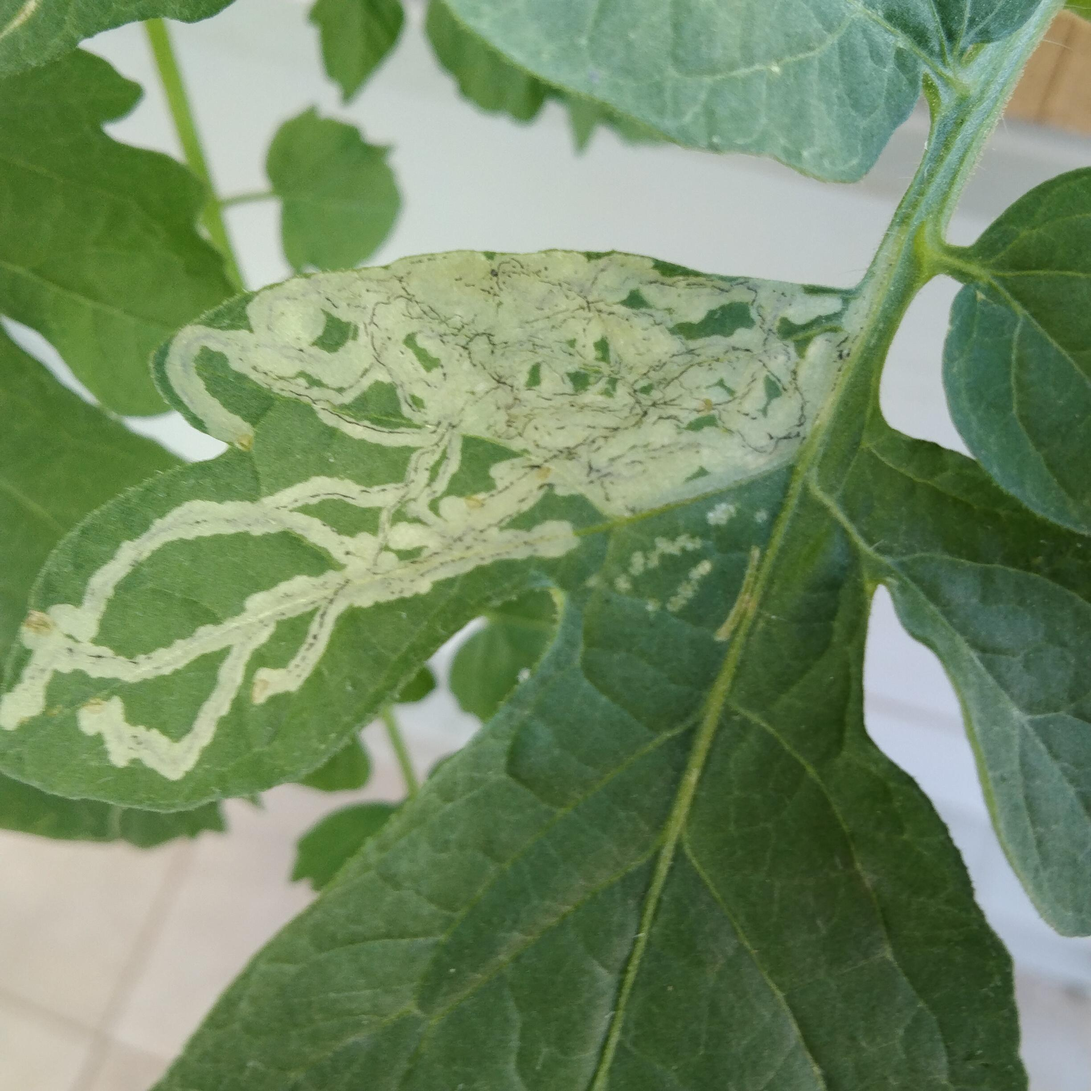Leaf_Miner: (281, 0, 847, 860)
